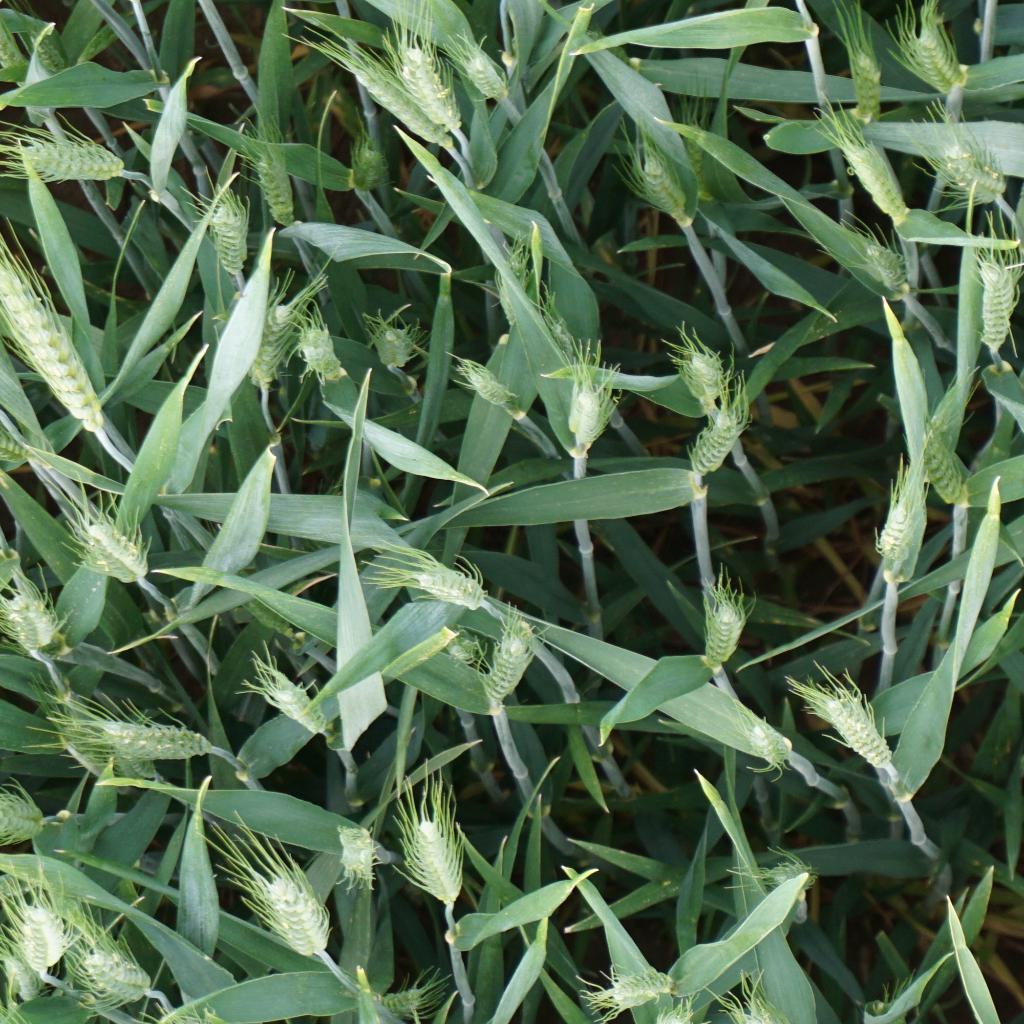0-0: (187, 799, 345, 972), (0, 247, 112, 448), (303, 25, 466, 159), (349, 776, 494, 915), (22, 690, 239, 780), (478, 229, 578, 400), (809, 96, 927, 227), (39, 482, 171, 598), (609, 108, 712, 239), (365, 531, 520, 616), (867, 4, 978, 120), (786, 669, 907, 770), (640, 302, 747, 416), (236, 647, 353, 745), (866, 436, 940, 584), (393, 15, 474, 148), (224, 112, 312, 231), (465, 608, 553, 727), (255, 259, 321, 404), (677, 379, 764, 487), (0, 563, 80, 678), (0, 124, 134, 191), (429, 3, 517, 105), (961, 229, 1022, 376), (190, 173, 263, 291), (735, 835, 827, 927), (562, 332, 624, 467), (907, 397, 979, 513), (355, 290, 434, 395), (826, 17, 898, 131), (693, 556, 751, 695), (925, 132, 1024, 212), (71, 938, 170, 1011), (299, 812, 387, 894), (278, 297, 350, 392), (842, 214, 919, 302), (855, 926, 931, 999), (4, 894, 69, 979), (737, 701, 790, 803), (0, 13, 59, 104), (449, 349, 528, 415), (688, 101, 728, 200), (0, 784, 48, 865), (349, 128, 397, 209), (597, 968, 678, 1014), (372, 979, 431, 1021)
